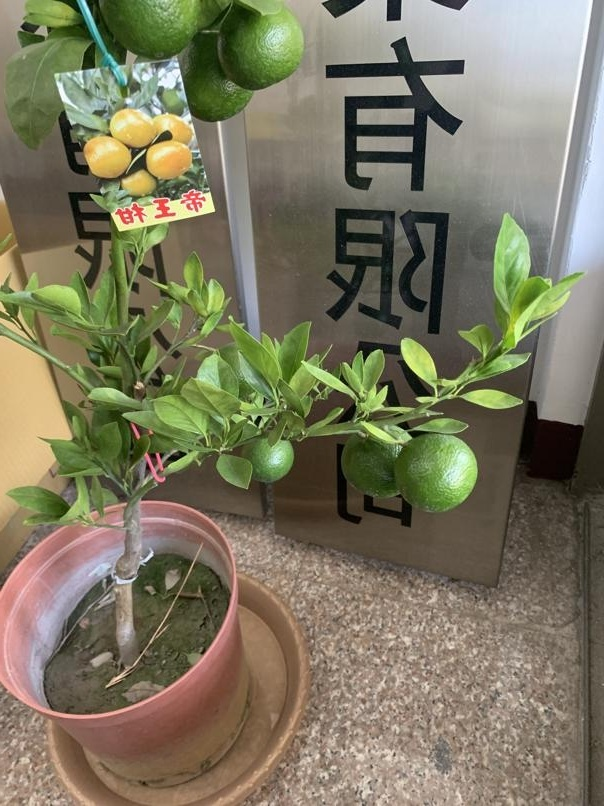Tangerine: (215, 2, 304, 90), (89, 1, 210, 60), (391, 433, 479, 511), (242, 433, 295, 488)
